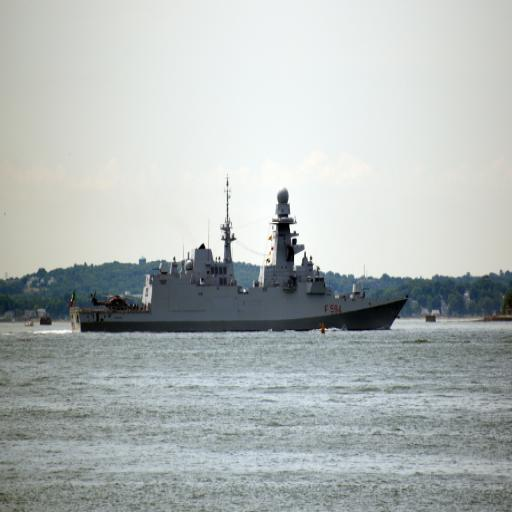Fragata: (64, 174, 412, 339)
